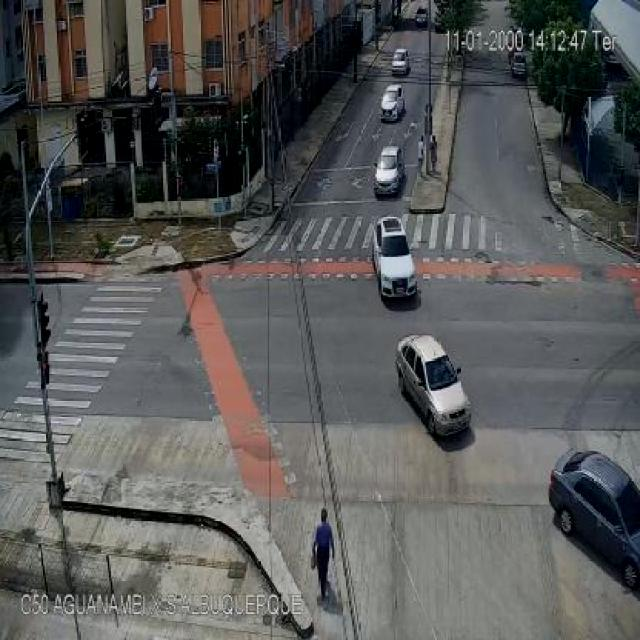Car: (548, 443, 640, 590), (396, 330, 474, 444), (370, 214, 423, 306), (374, 145, 404, 198), (380, 83, 406, 122), (391, 48, 410, 76), (415, 7, 430, 27)
